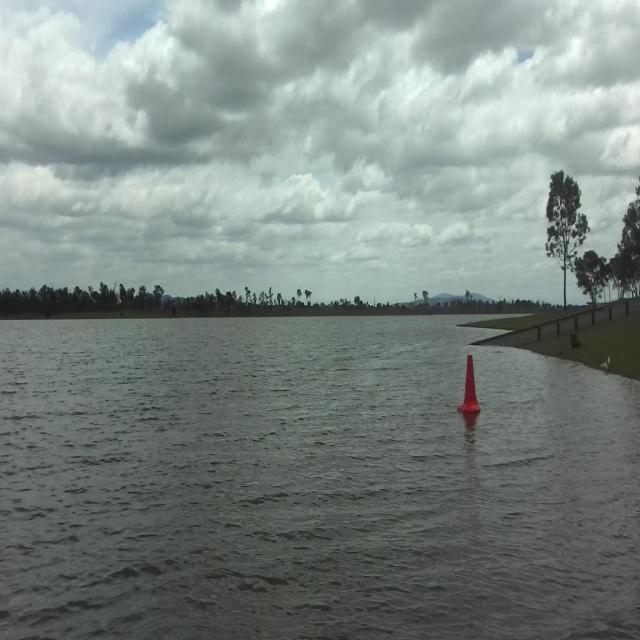Red_Buoy: (454, 340, 491, 430)
